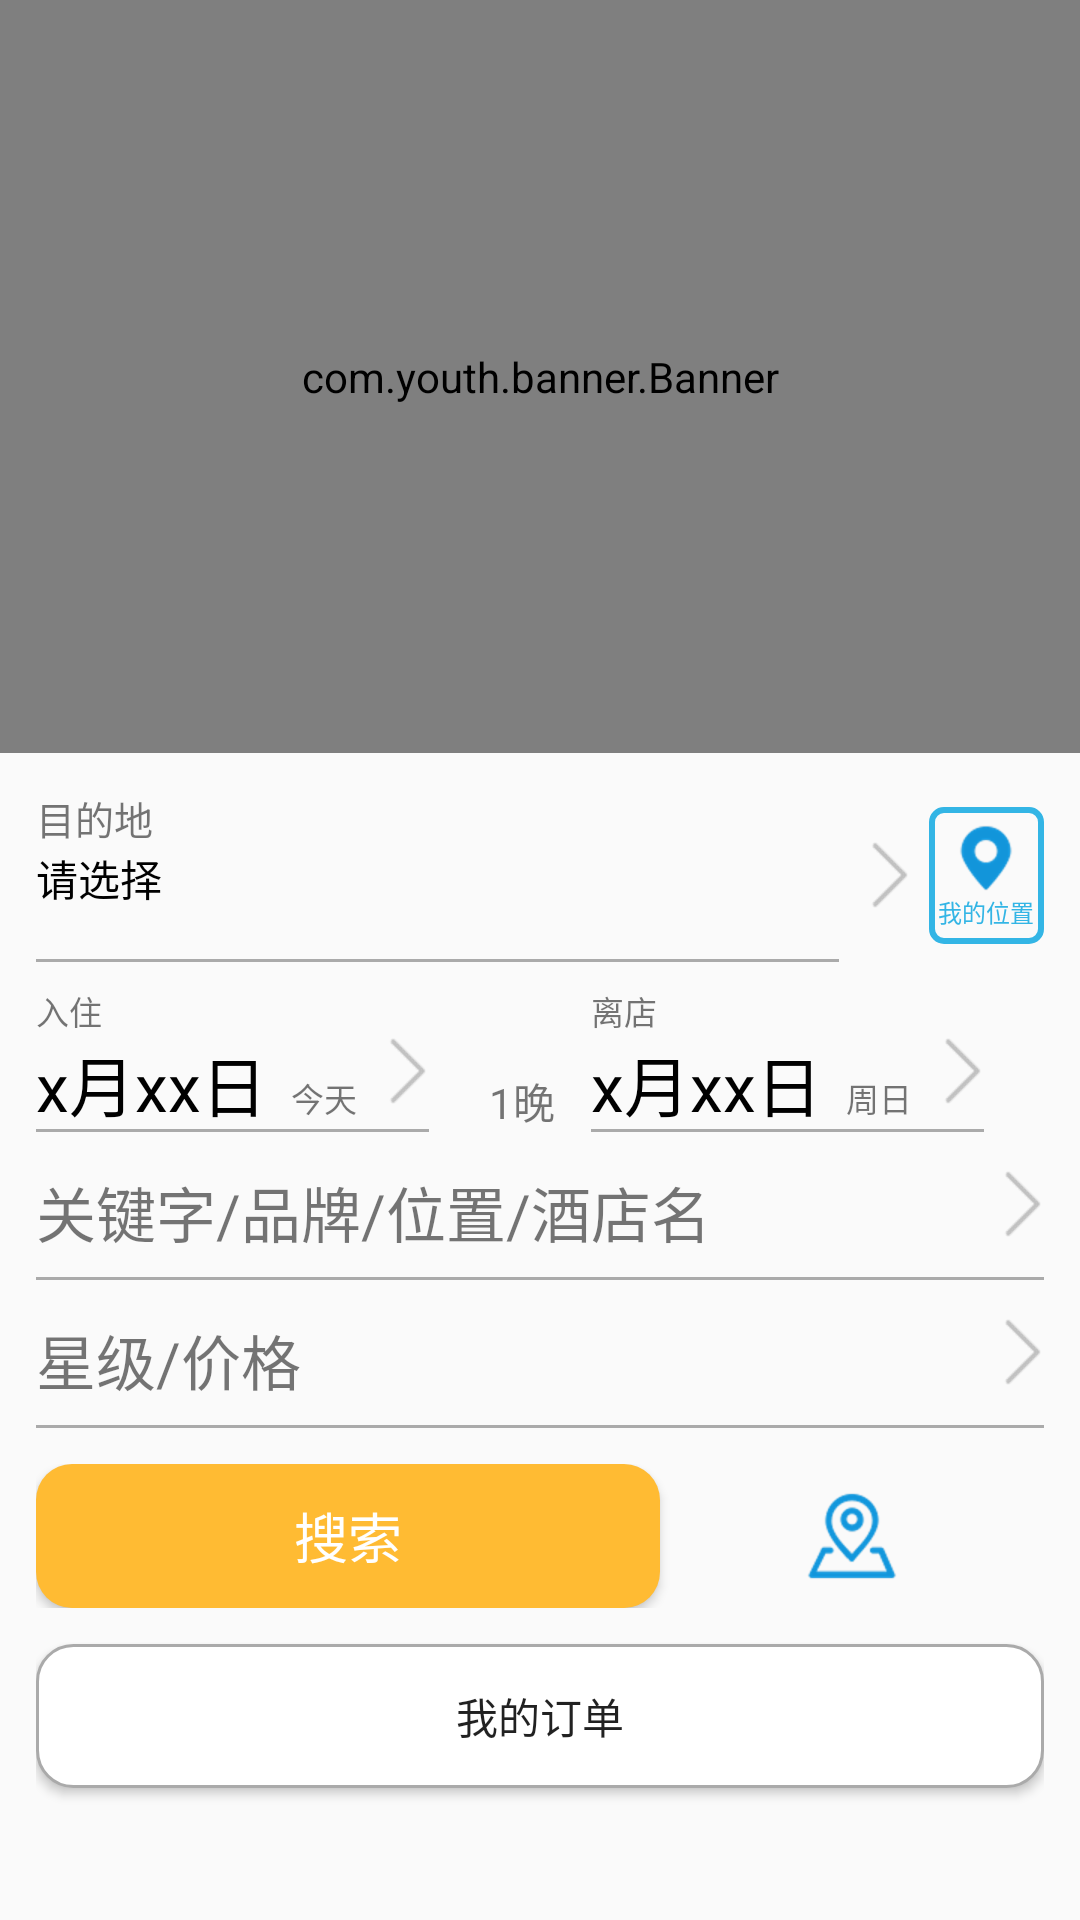

Point at icon controls on the screen. Image size 1080*1920, points as point (x, y).
arrow right: point (890, 875), point (408, 1071), point (963, 1071), point (1023, 1204), point (1023, 1352)
map: point (852, 1536)
